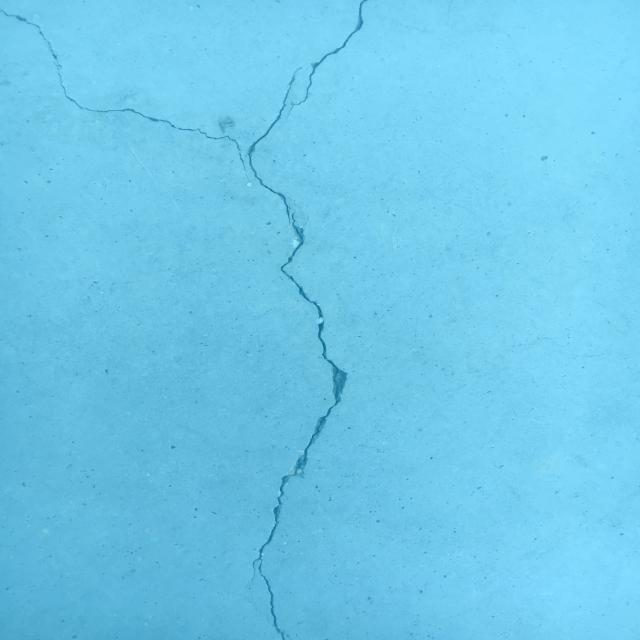crack: (0, 9, 349, 640), (284, 0, 369, 122)
